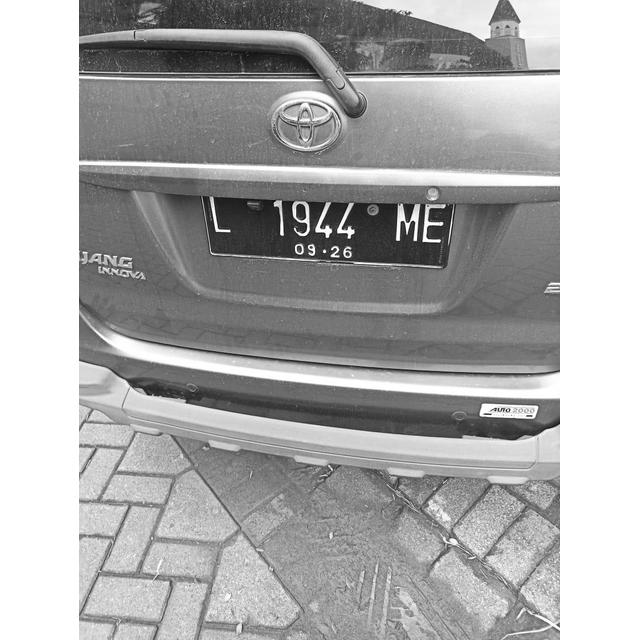license: (206, 195, 448, 261)
